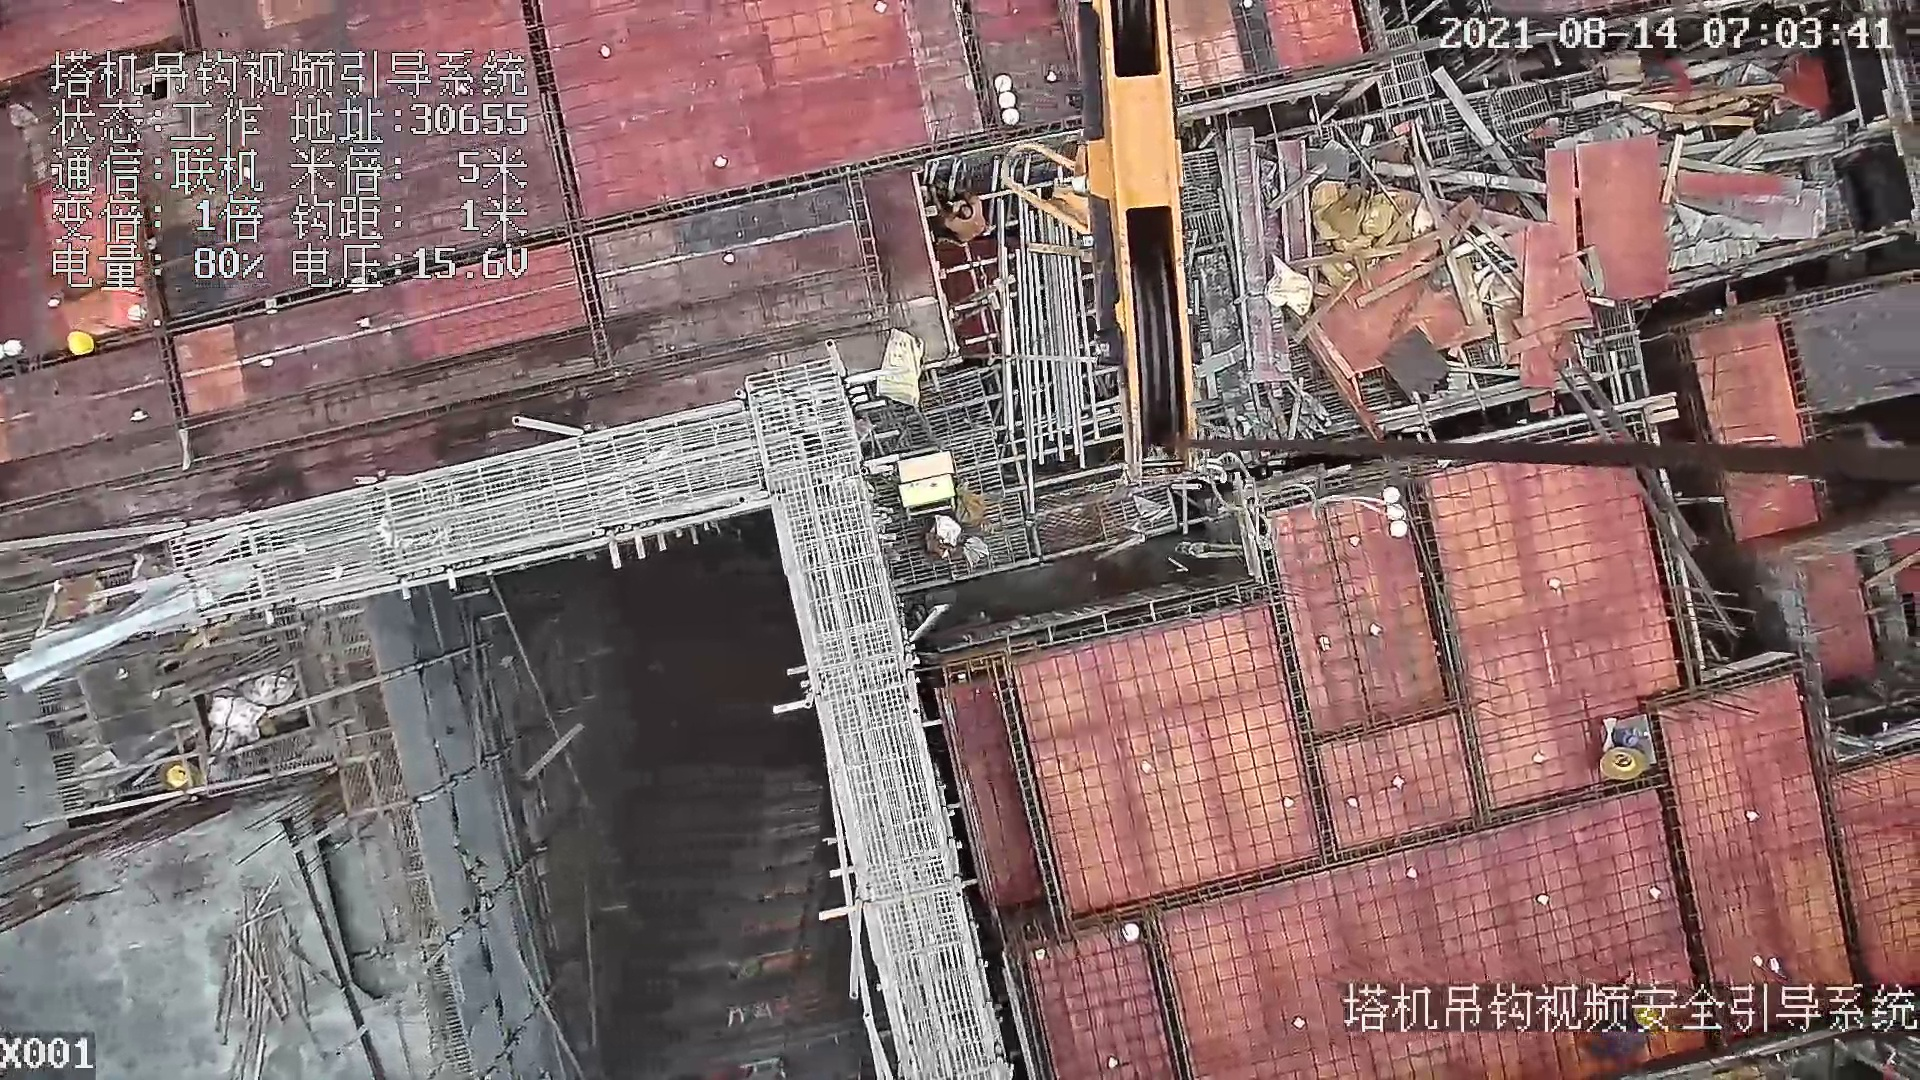helmet: (64, 328, 98, 354)
hook: (996, 1, 1209, 486)
person: (932, 192, 991, 250)
